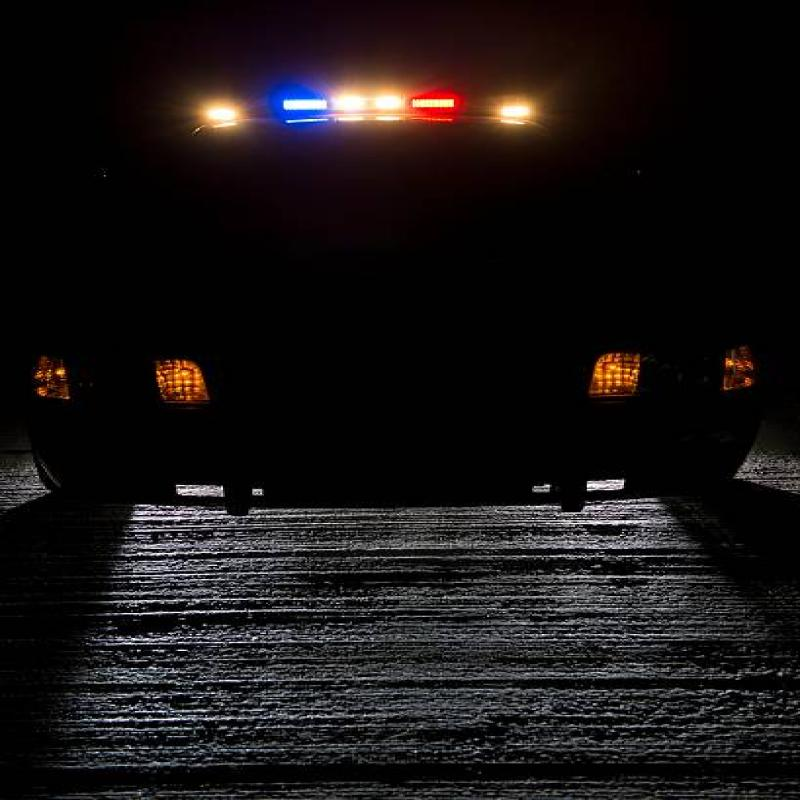AmbulanceSiren: (150, 56, 537, 146)
